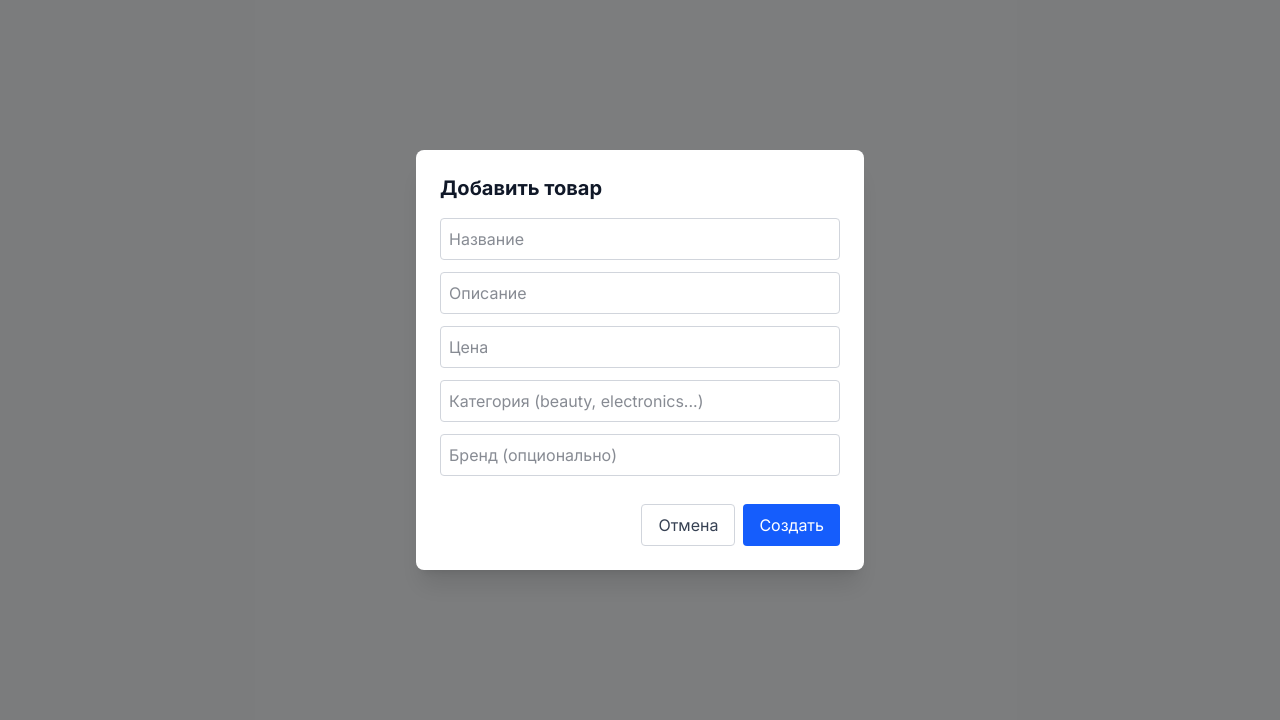
Test: ProductForm › Показывает ошибку для категории beauty при цене меньше 5
The width and height of the screenshot is (1280, 720).
Type "Valid Name" into the field with placeholder "Название". click: (640, 239)
box: [440,218,840,260]
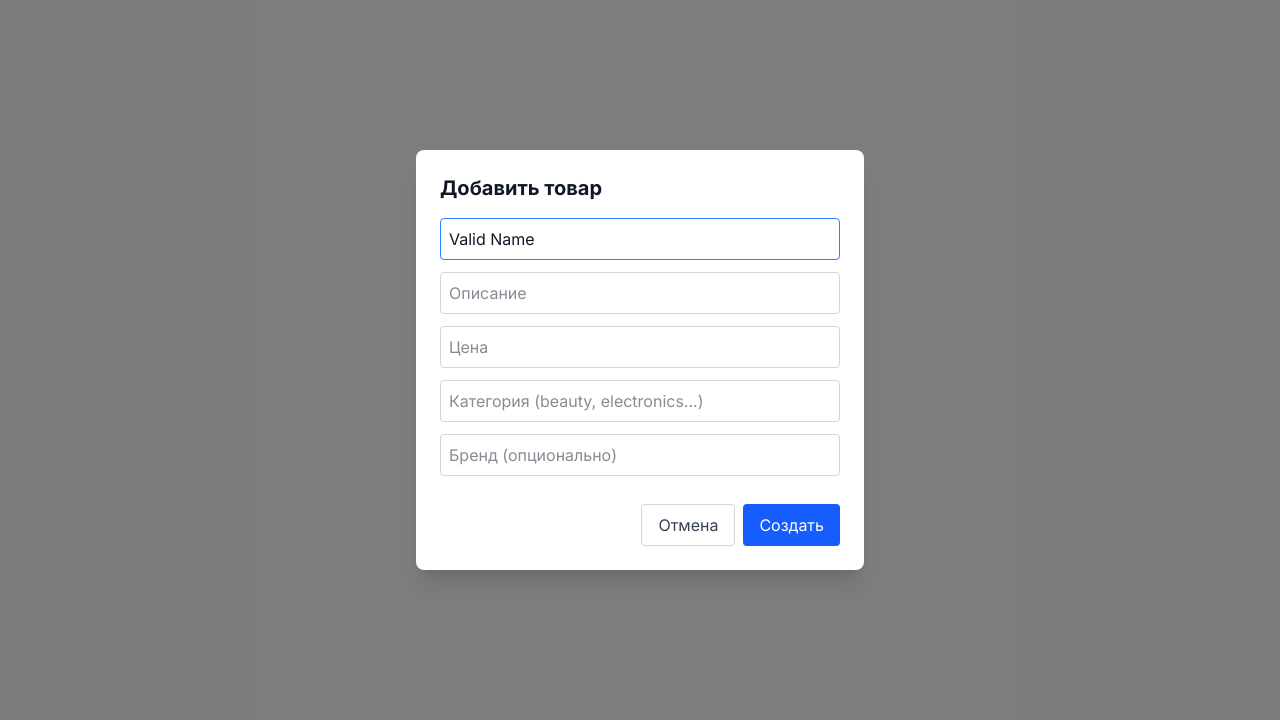
Type "Valid Description here" into the field with placeholder "Описание". click: (640, 293)
box: [440,272,840,314]
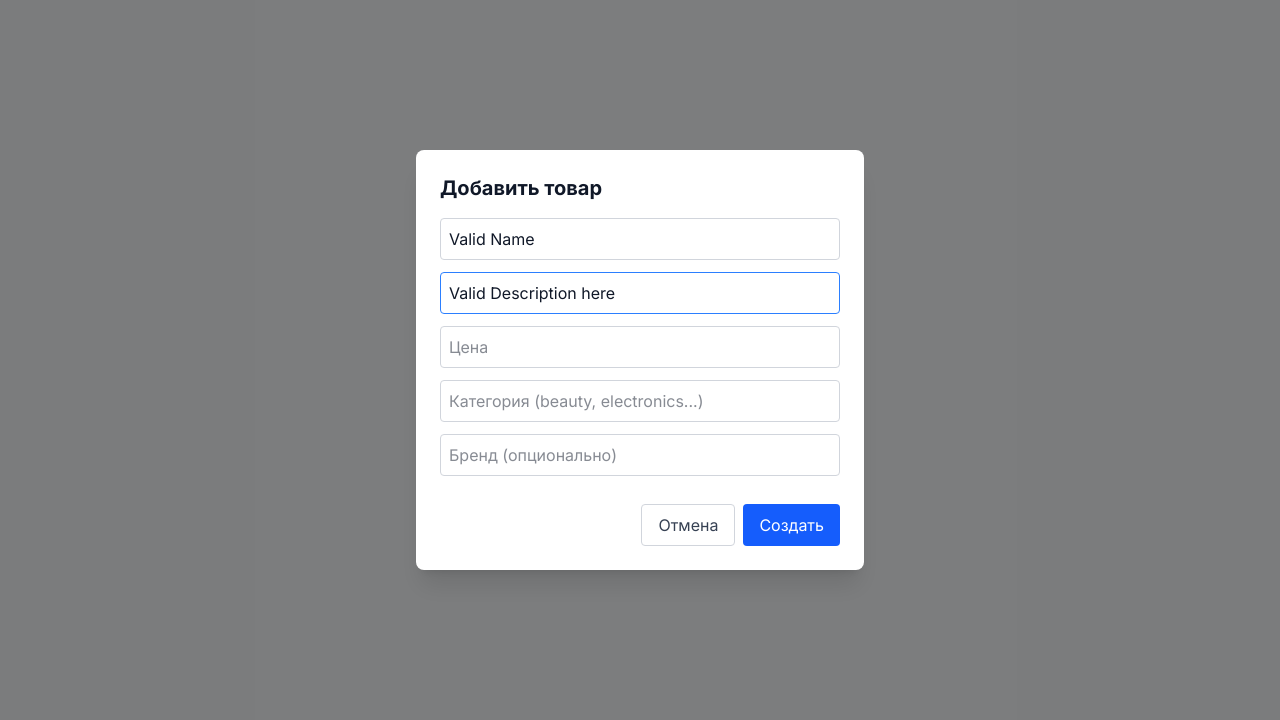
Type "beauty" into the field with placeholder "Категория (beauty, electronics...)". click: (640, 401)
box: [440,380,840,422]
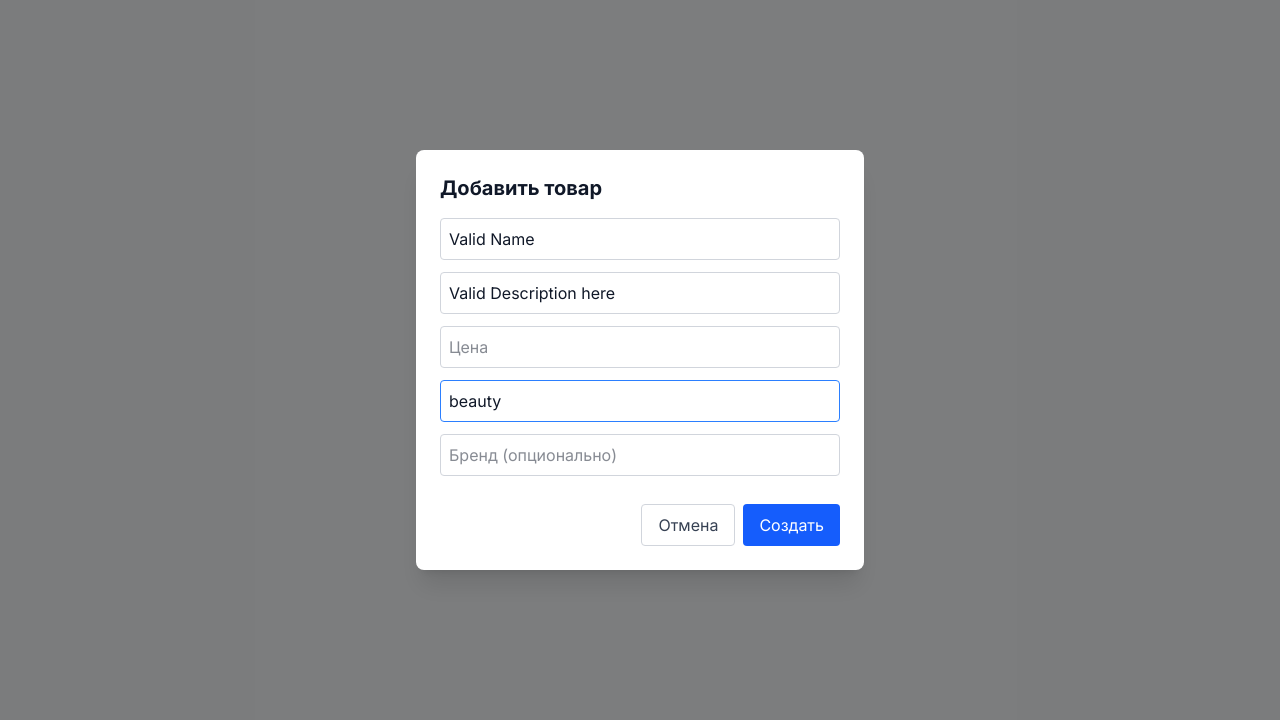
Type "2" into the number field with placeholder "Цена". click: (640, 347)
box: [440,326,840,368]
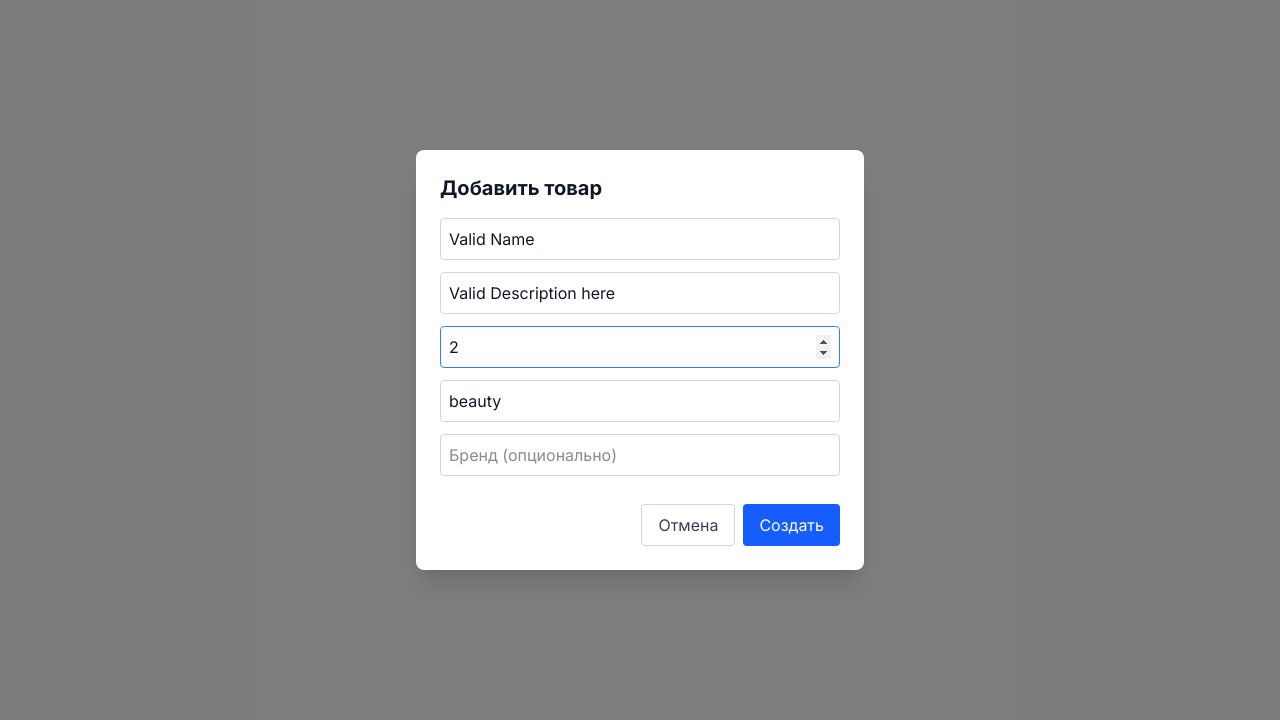
Click the button "Создать". click: (792, 525)
box: [743,504,840,546]
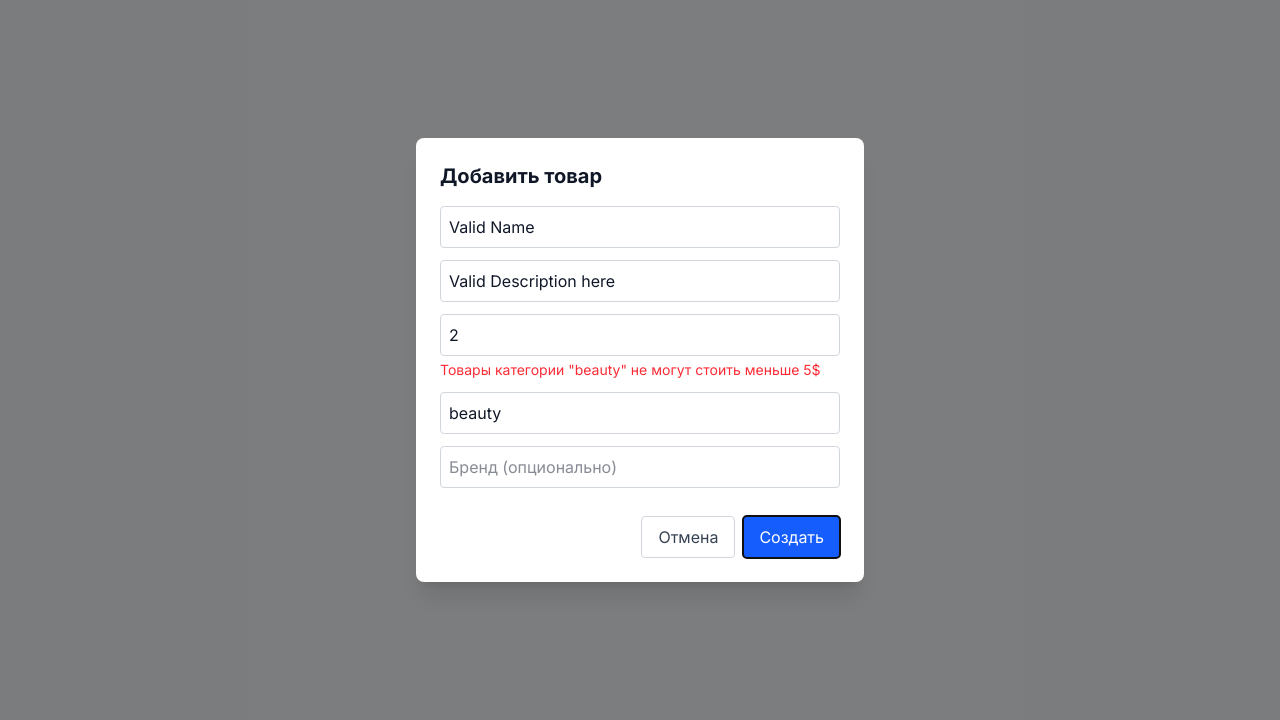
Now the text "Товары категории \"beauty\" не могут стоить меньше 5$" is shown, box [440,360,840,380]
